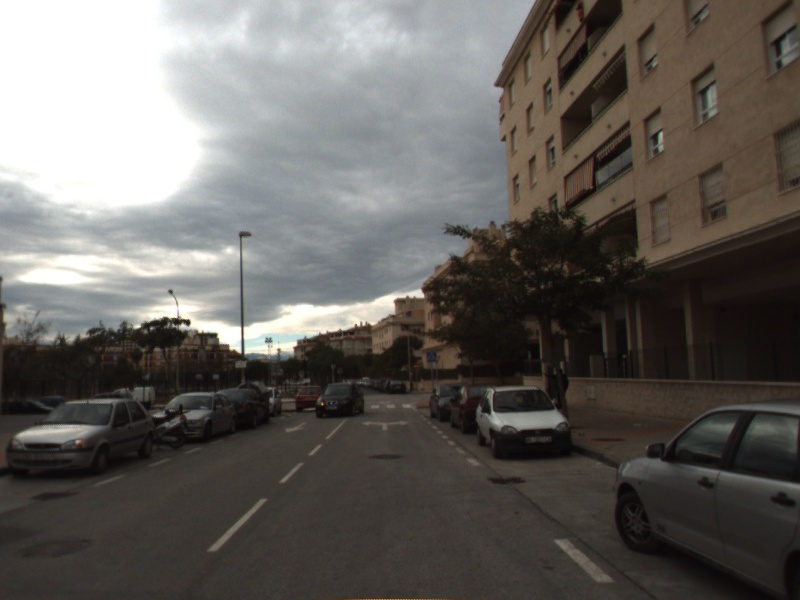LEFT_RIGHT: (360, 418, 411, 433)
